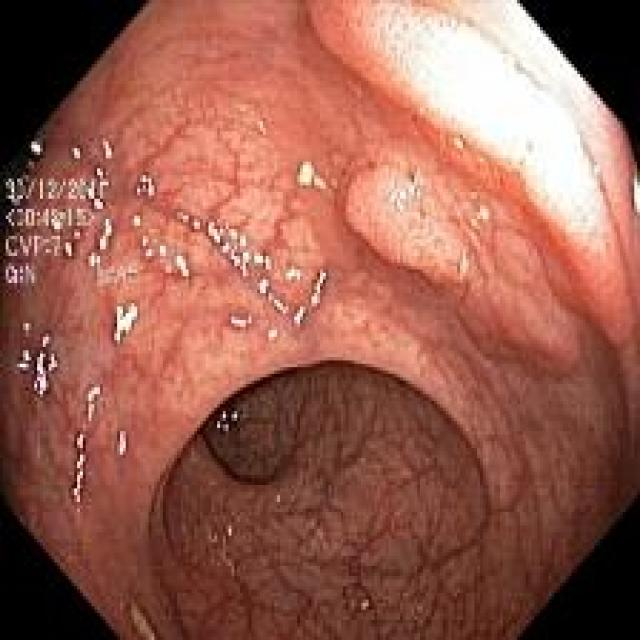Polyps: (345, 155, 469, 284)
